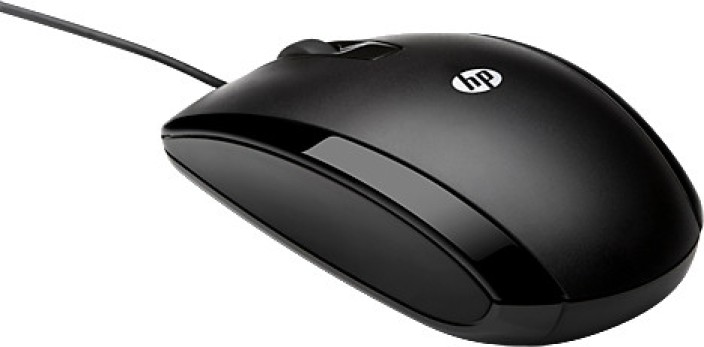hp-mouse-X1000: (133, 13, 697, 338)
